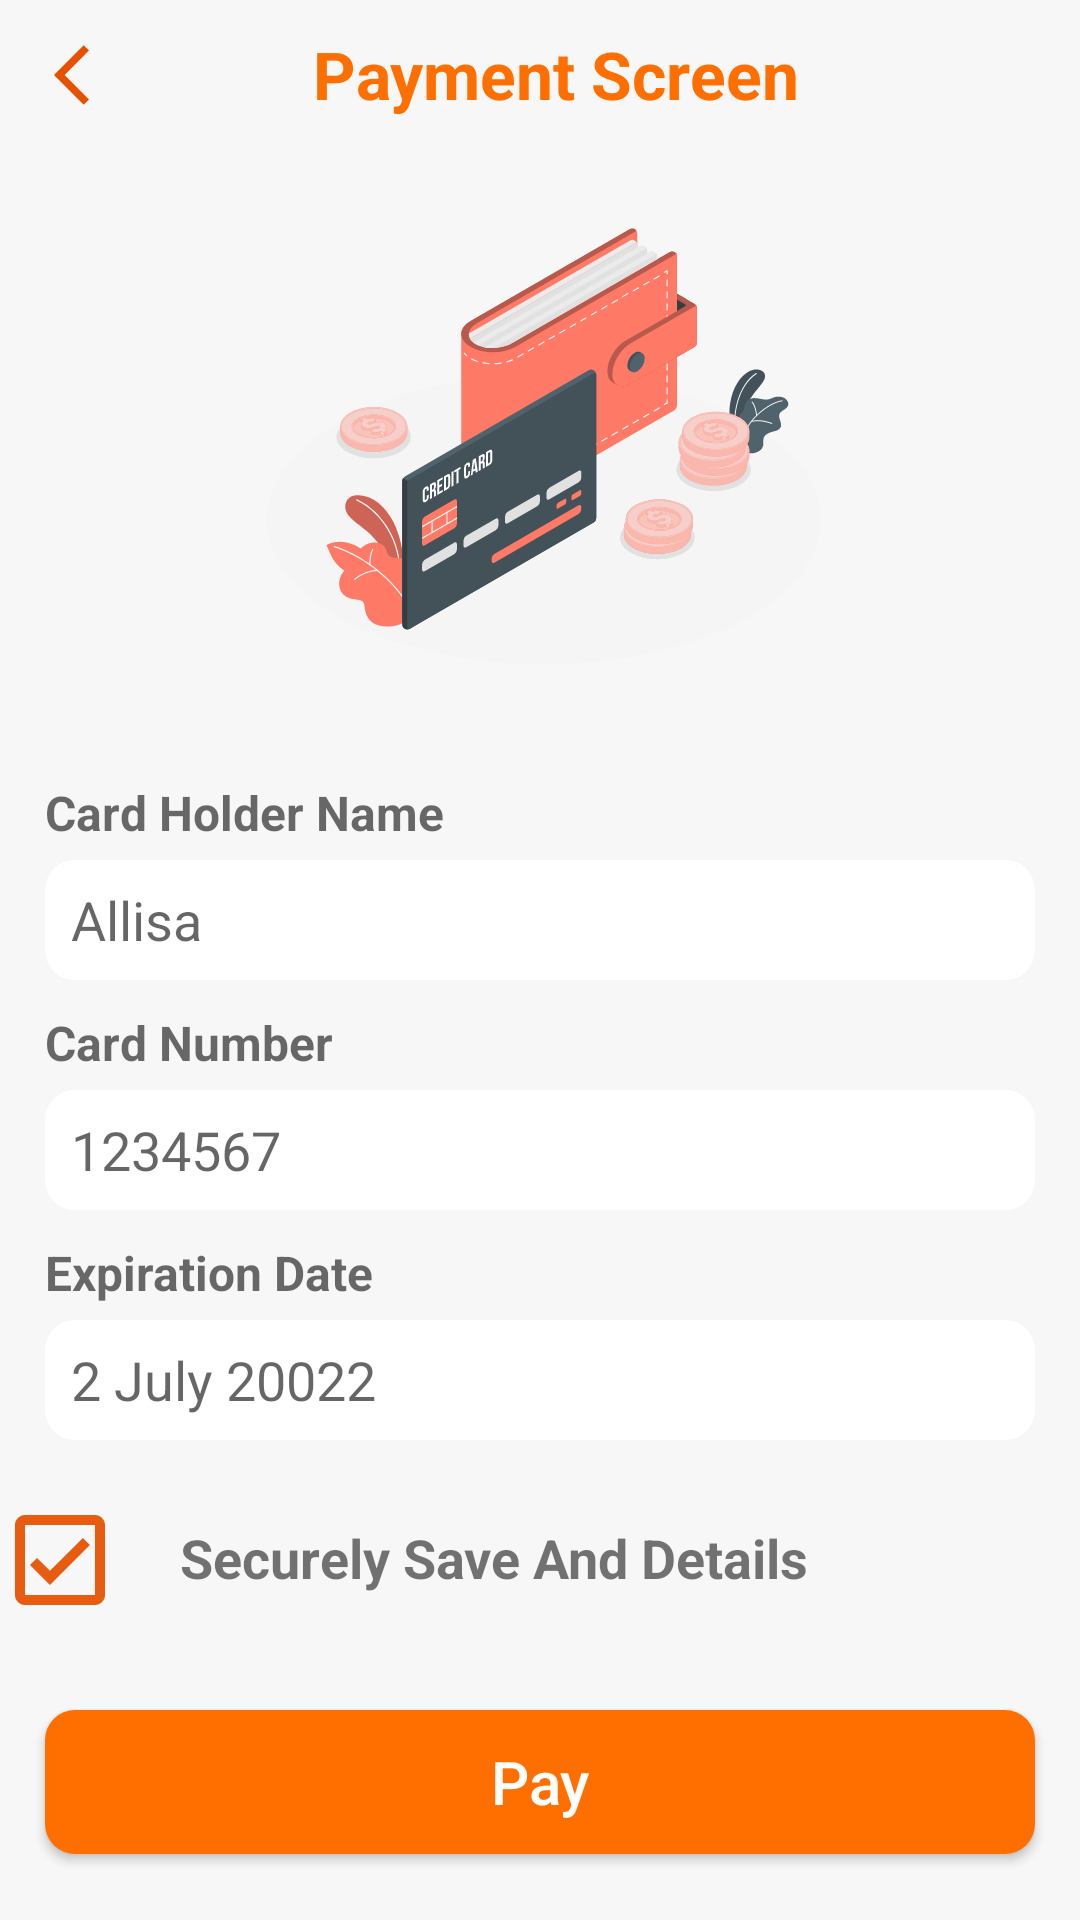

Icon click points for this 1080 x 1920 phone screenshot, format (x,y):
arrow back: (71,75)
check box: (60,1560)
